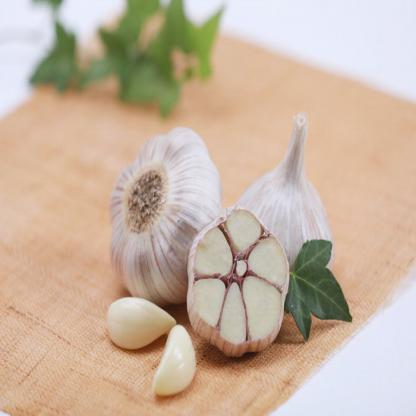garlic: (193, 209, 290, 341), (112, 140, 214, 263), (252, 150, 334, 248), (99, 277, 172, 350), (158, 317, 200, 396)
